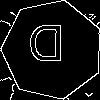D: (27, 25, 65, 71)
